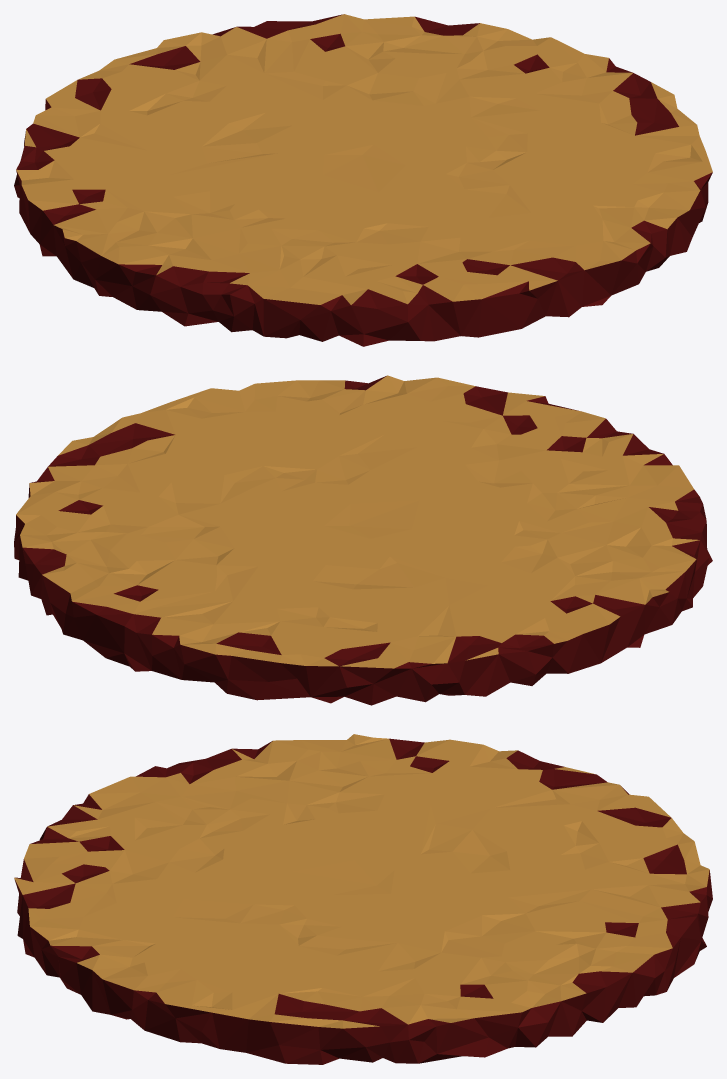
The model's file is level_Lower_Plat_modelled.fbx.
3 renders of one model, top to bottom at view 1: azimuth 30°, elevation 25°; view 2: azimuth 150°, elevation 25°; view 3: azimuth 270°, elevation 25°, orthographic.
Parts seen in each view (by area): view 1: level_Lower_Plat_modelled; view 2: level_Lower_Plat_modelled; view 3: level_Lower_Plat_modelled.
Boxes of the visible parts, x1,y1,x2,y2 form: level_Lower_Plat_modelled: (14, 14, 712, 346); level_Lower_Plat_modelled: (14, 375, 712, 705); level_Lower_Plat_modelled: (14, 734, 712, 1064).
Size of the model in its own units: 462 by 27.66 by 463.
